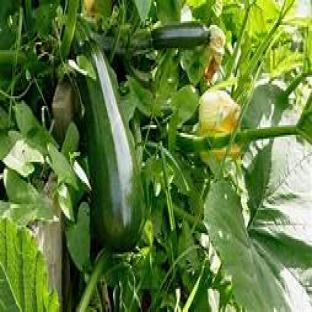Zucchini: (78, 43, 143, 250), (152, 22, 210, 50)
